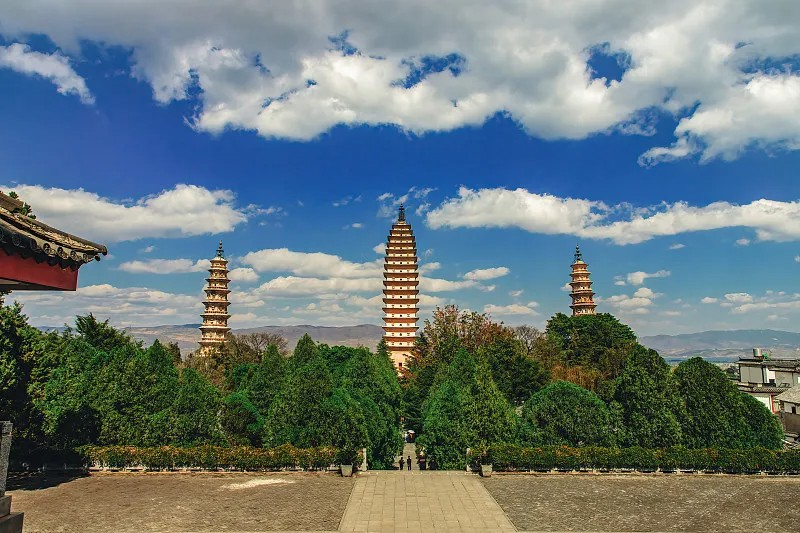ThreePagoda: (382, 204, 420, 377)
